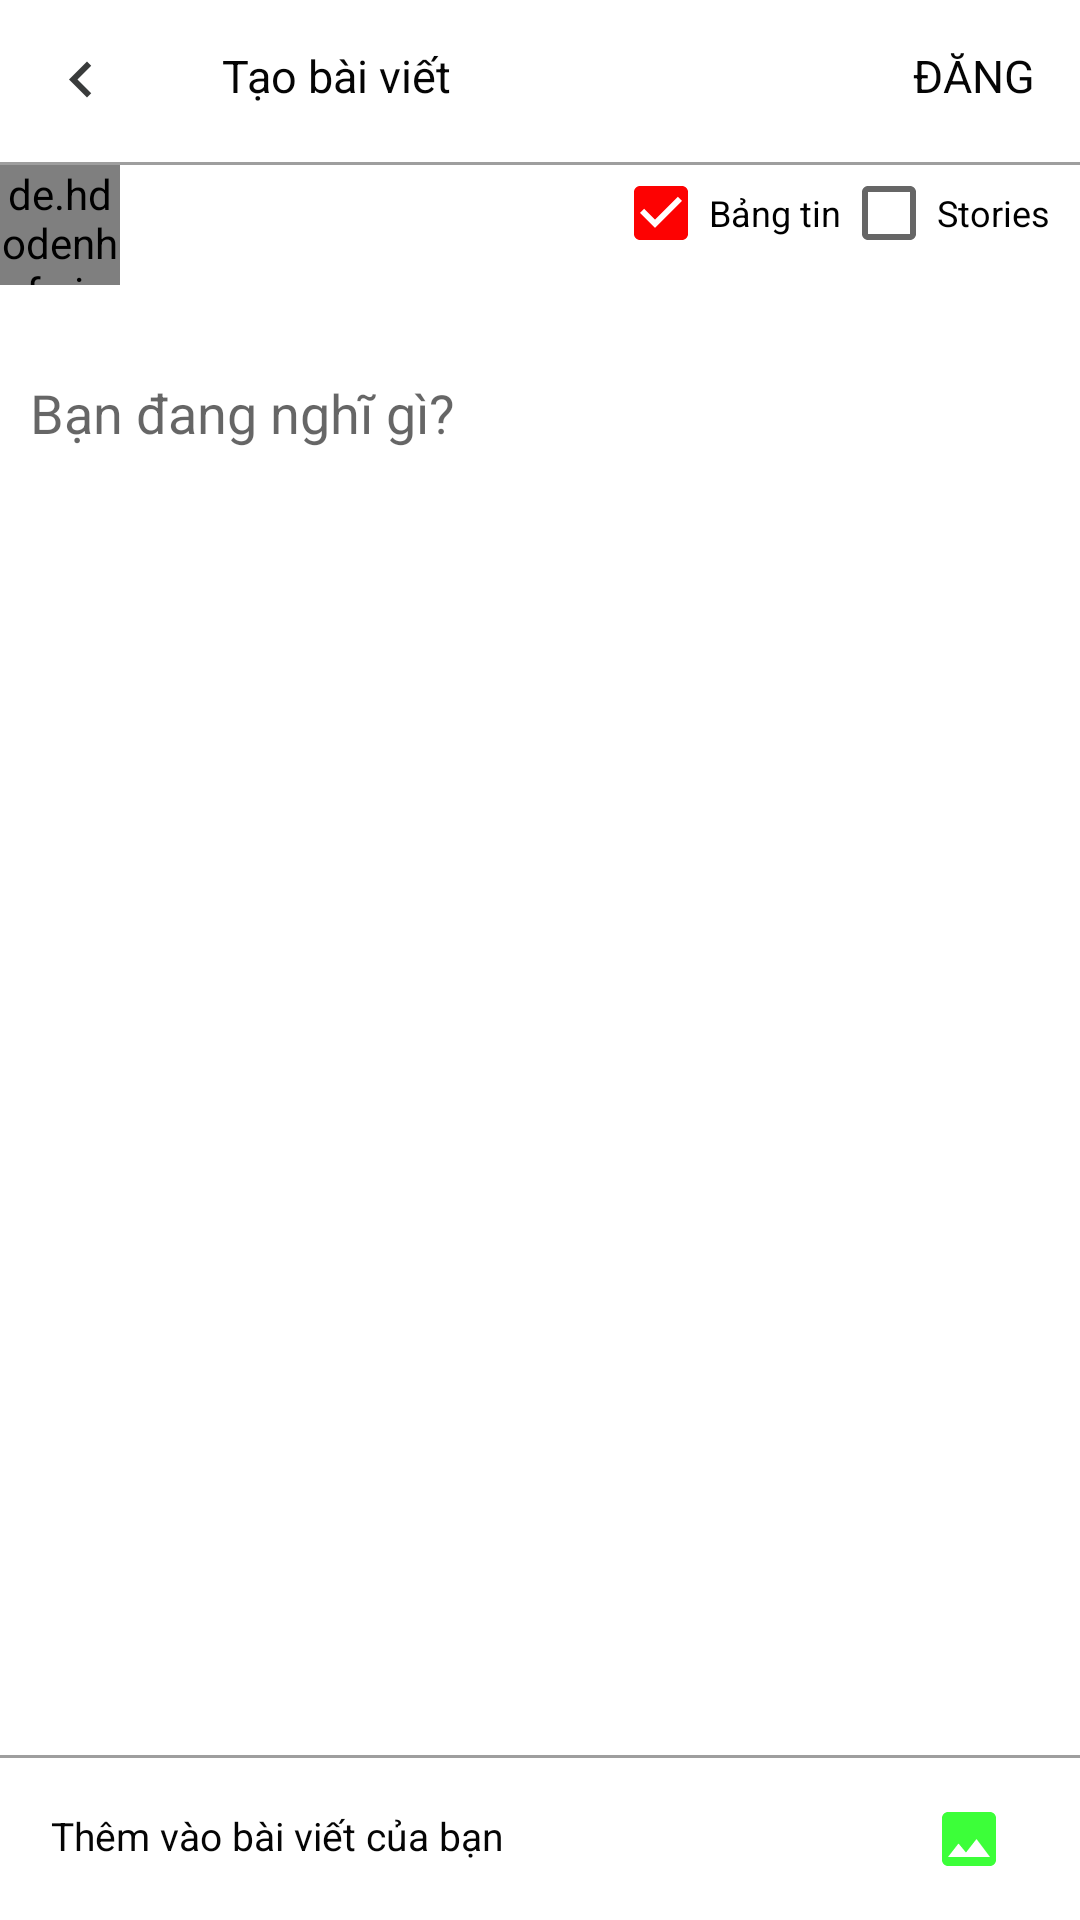

Screen size 1080 × 1920. Icon name, then its box in pixels as Rect(x1, y1, x2, y2):
back: Rect(69, 62, 91, 98)
